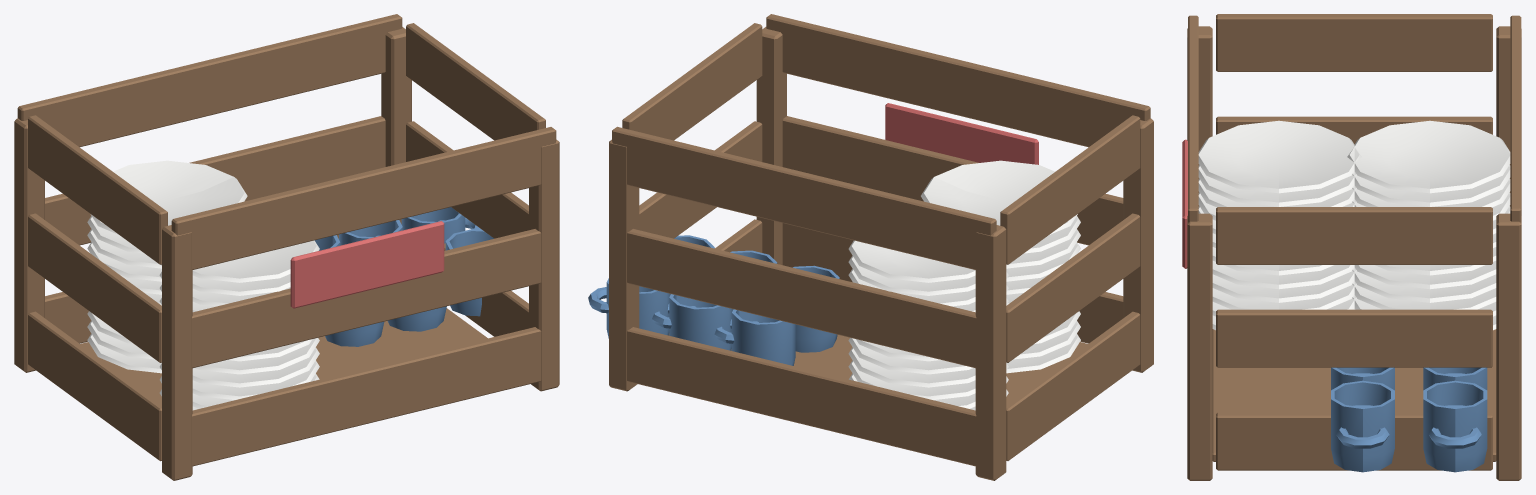
File: village-hall-and-community-events-crockery-crate-ed80f580.glb
3 renders of one model, left to right at view 1: azimuth 30°, elevation 25°; view 2: azimuth 150°, elevation 25°; view 3: azimuth 270°, elevation 25°, orthographic. The views are drawn at different scales.
Visible parts, largest first — view 1: crockery-crate; view 2: crockery-crate; view 3: crockery-crate.
Part boxes in pixels (<box>): crockery-crate: <box>14,14,559,480</box>; crockery-crate: <box>588,14,1153,480</box>; crockery-crate: <box>1182,14,1521,480</box>.
Size of the model in its own units: 0.626 by 0.3561 by 0.404.
